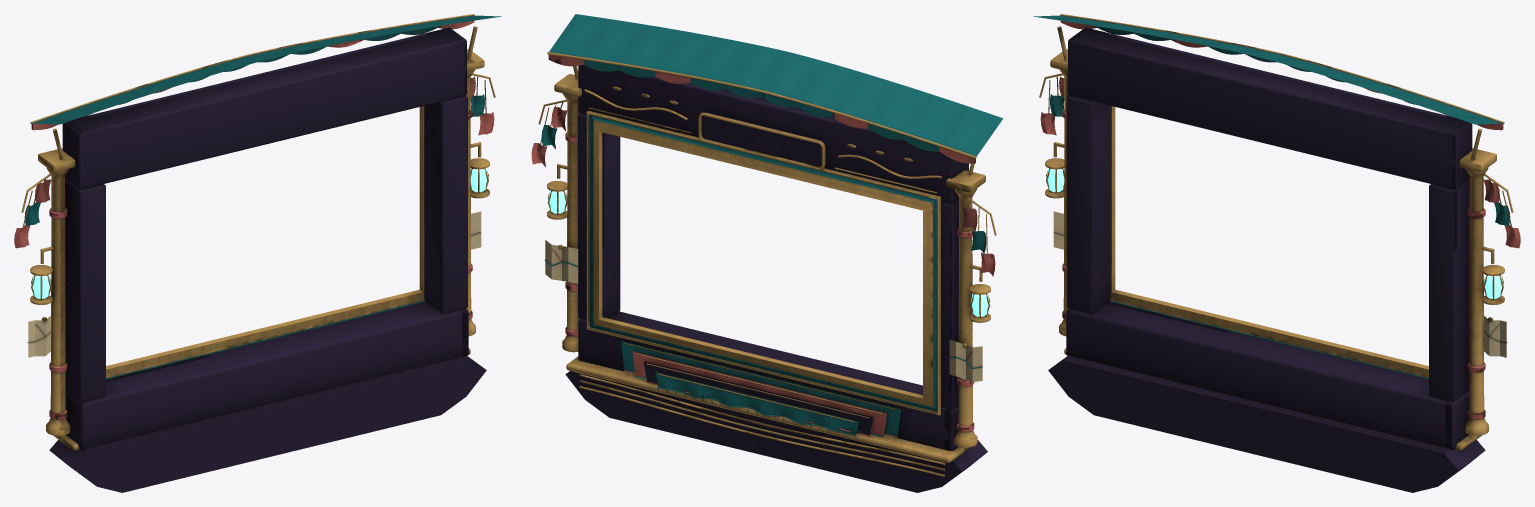
3 renders of one model, left to right at view 1: azimuth 30°, elevation 25°; view 2: azimuth 150°, elevation 25°; view 3: azimuth 330°, elevation 25°, orthographic. The views are drawn at different scales.
Parts seen in each view (by area): view 1: Deep_violet_lacquer, Guild_brushed_brass, Teal_woven_canopy, Coral_dyed_linen, Warm_folded_route_paper, Turquoise_dye_lantern_glow; view 2: Deep_violet_lacquer, Guild_brushed_brass, Teal_woven_canopy, Coral_dyed_linen, Warm_folded_route_paper, Turquoise_dye_lantern_glow; view 3: Deep_violet_lacquer, Guild_brushed_brass, Teal_woven_canopy, Coral_dyed_linen, Warm_folded_route_paper, Turquoise_dye_lantern_glow.
Part boxes in pixels (x1,y1,x2,y2): Deep_violet_lacquer: (49, 27, 486, 492); Guild_brushed_brass: (21, 14, 495, 450); Teal_woven_canopy: (24, 15, 501, 379); Coral_dyed_linen: (14, 20, 494, 419); Warm_folded_route_paper: (28, 211, 481, 357); Turquoise_dye_lantern_glow: (32, 168, 488, 298); Deep_violet_lacquer: (565, 65, 987, 492); Guild_brushed_brass: (538, 52, 996, 476); Teal_woven_canopy: (541, 14, 1003, 438); Coral_dyed_linen: (531, 54, 995, 437); Warm_folded_route_paper: (545, 240, 982, 381); Turquoise_dye_lantern_glow: (548, 190, 989, 316); Deep_violet_lacquer: (1048, 27, 1485, 492); Guild_brushed_brass: (1039, 14, 1513, 450); Teal_woven_canopy: (1033, 15, 1510, 379); Coral_dyed_linen: (1040, 20, 1520, 419); Warm_folded_route_paper: (1053, 211, 1506, 357); Turquoise_dye_lantern_glow: (1046, 168, 1502, 298).
Size of the model in its own units: 11.74 by 9.3 by 1.5.
6 materials, 5 textured.
